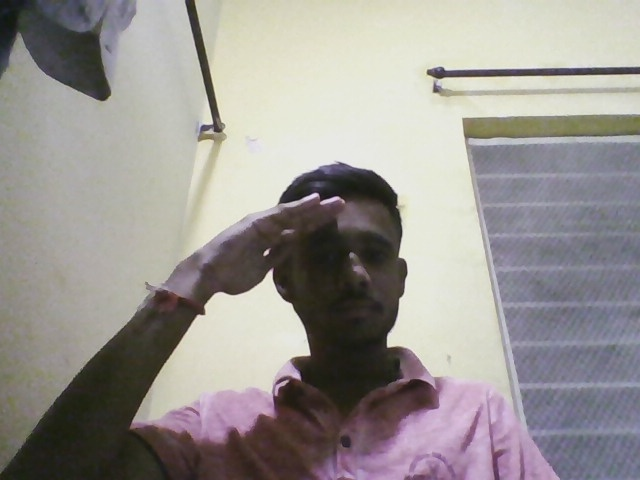thankyou: (176, 160, 344, 305)
